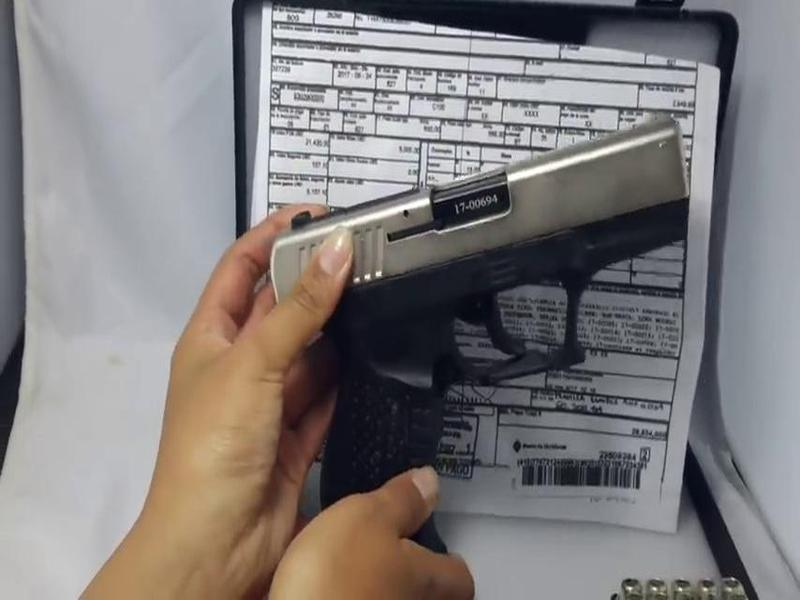Pistola: (225, 102, 715, 580)
